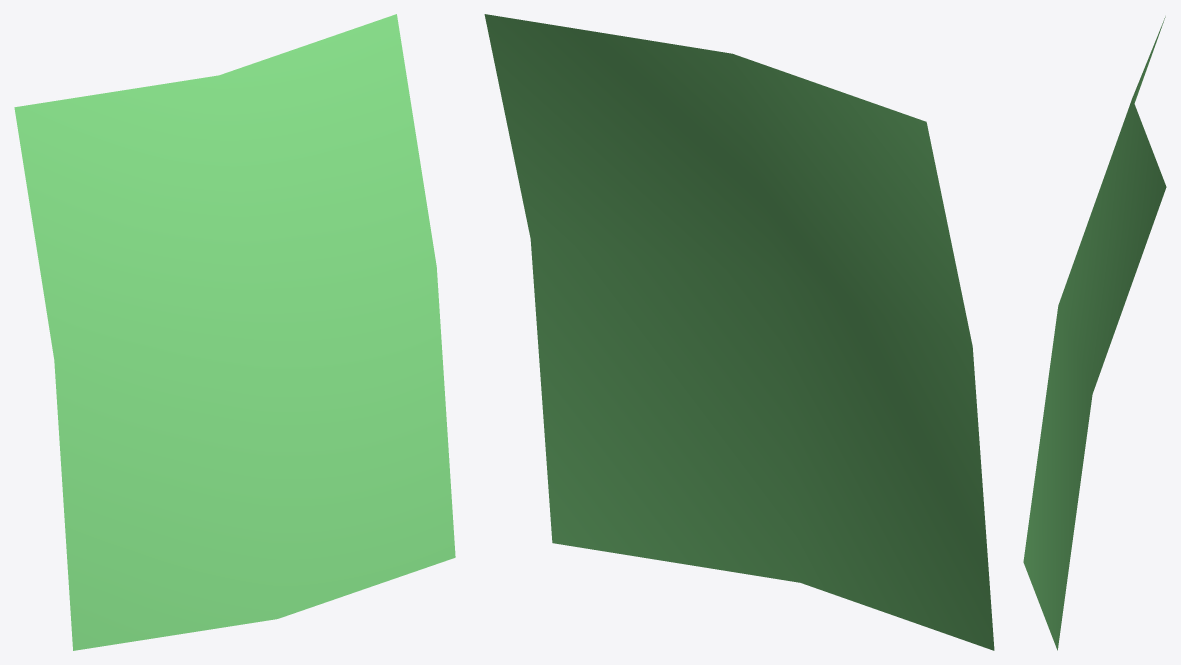
Rendered from GrassPlane_a_TwoS_03.fbx.
The picture shows the model from 3 angles, left to right: view 1: azimuth 30°, elevation 25°; view 2: azimuth 150°, elevation 25°; view 3: azimuth 270°, elevation 25°; orthographic projection. The views are drawn at different scales.
Visible parts, largest first — view 1: GrassPlane_a_TwoS_03; view 2: GrassPlane_a_TwoS_03; view 3: GrassPlane_a_TwoS_03.
Part boxes in pixels (x1,y1,x2,y2): GrassPlane_a_TwoS_03: (14, 14, 455, 650); GrassPlane_a_TwoS_03: (484, 14, 994, 650); GrassPlane_a_TwoS_03: (1023, 16, 1166, 650).
Bounding box in the file's own units: 40.69 × 50.91 × 14.23.
